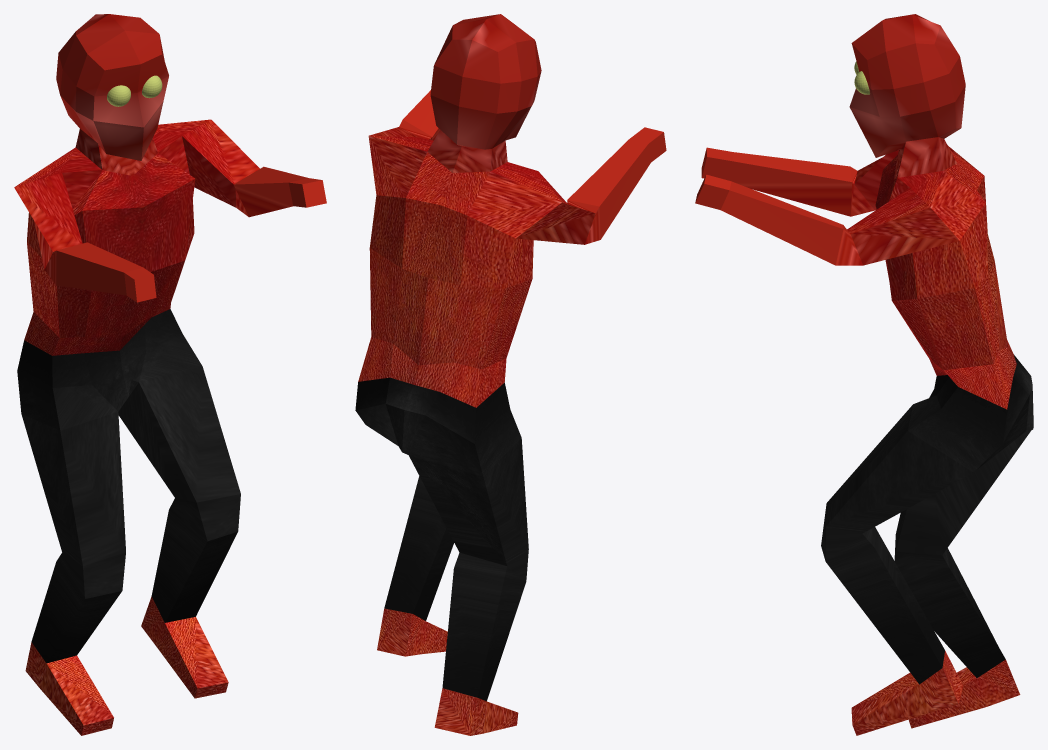
Rendered from laySheary_000012.obj.
3 views of the same model, side by side, from view 1: azimuth 30°, elevation 25°; view 2: azimuth 150°, elevation 25°; view 3: azimuth 270°, elevation 25° (orthographic).
Parts seen in each view (by area): view 1: Cube; view 2: Cube; view 3: Cube.
Boxes of the visible parts, left/top/right/bottom form: Cube: left=14, top=14, right=326, bottom=735; Cube: left=355, top=14, right=666, bottom=735; Cube: left=695, top=14, right=1033, bottom=735.
Size of the model in its own units: 5.07 by 15.97 by 6.87.
Materials: 3 (2 with a texture image).
